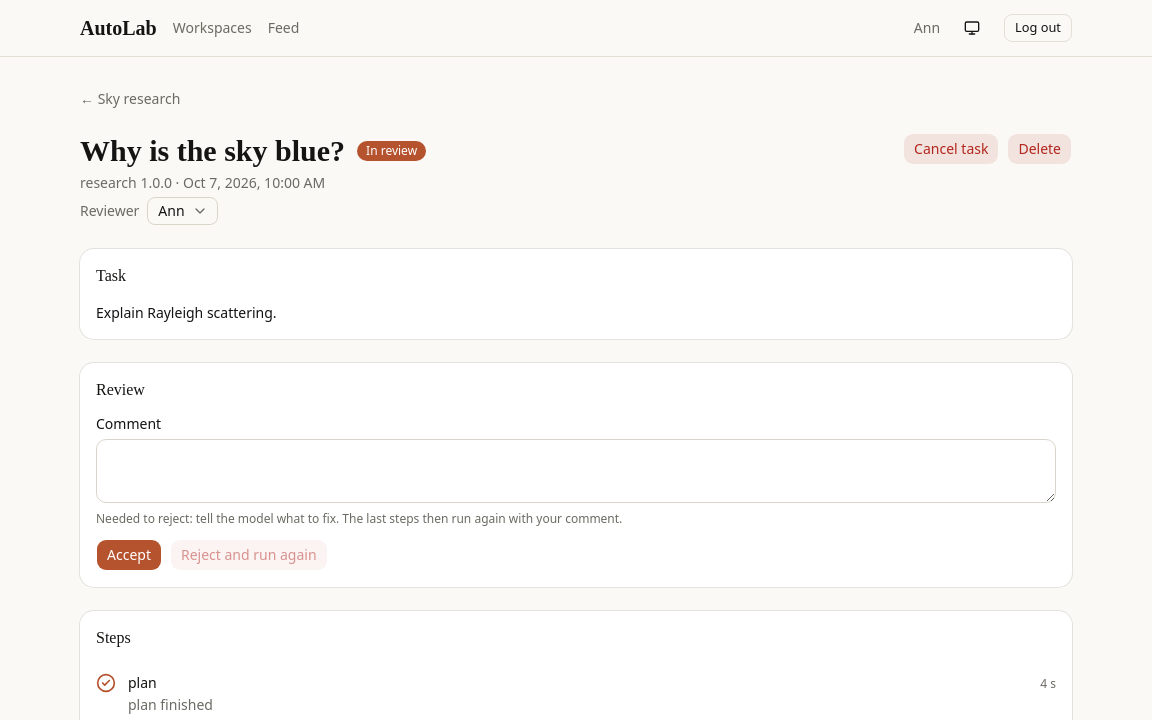
Test: the reviewer rejects with a comment; the task runs again and the review is listed
The width and height of the screenshot is (1152, 720).
Expected: the button "Reject and run again" is disabled, [170,539,328,571]
Type "Add a source for sentence 2." into the text box labelled "Comment" at (576, 471), box [96,439,1056,503]
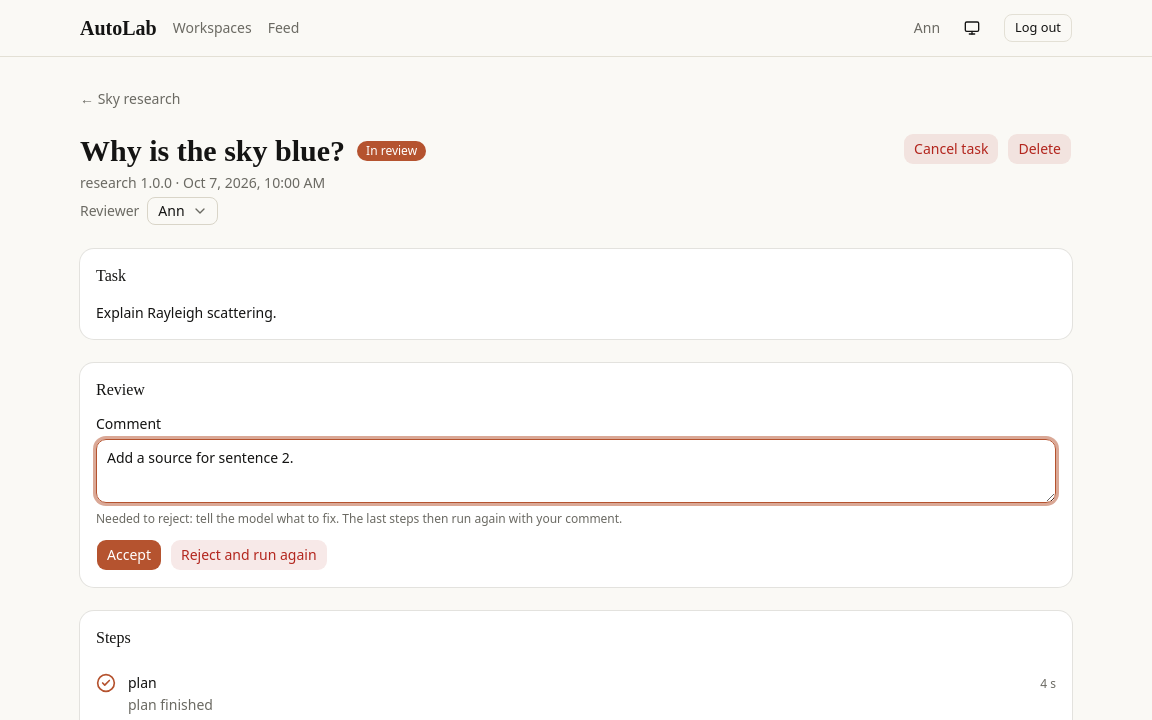
Click the button "Reject and run again" at (249, 555), box [170,539,328,571]
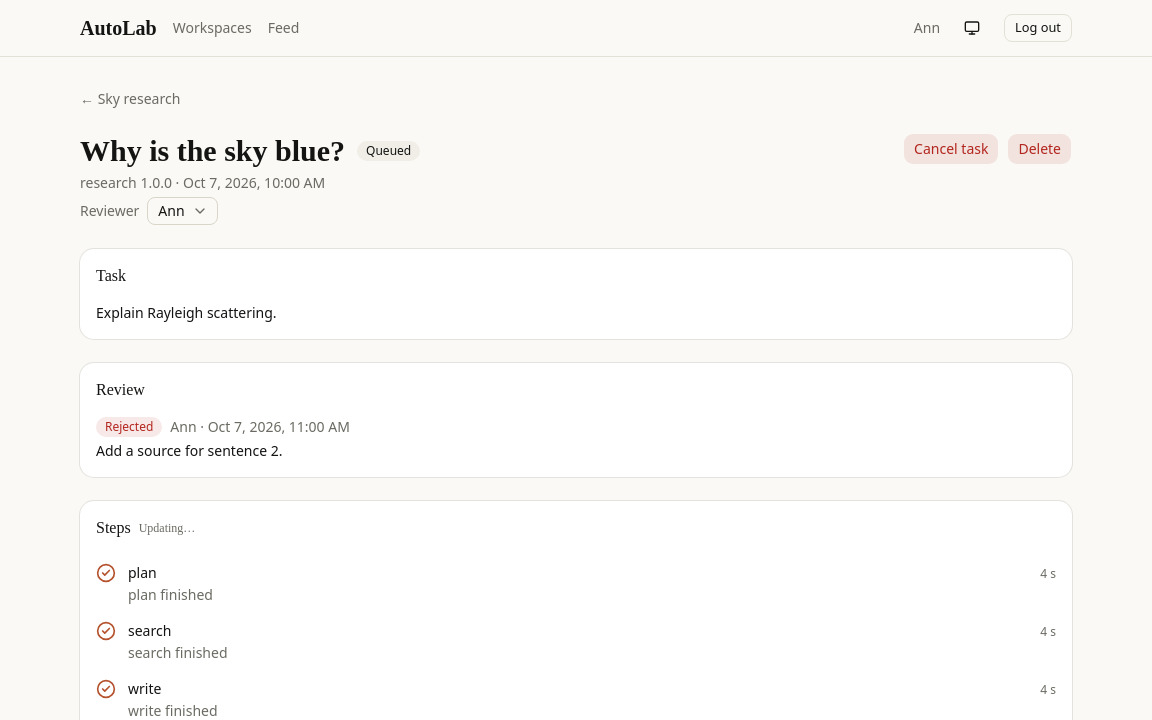
Expected: the text "Queued" is shown, [357,141,420,161]
Expected: the text "Add a source for sentence 2." is shown, [96,441,282,460]
Expected: the text "Rejected" is shown, [96,417,162,437]
